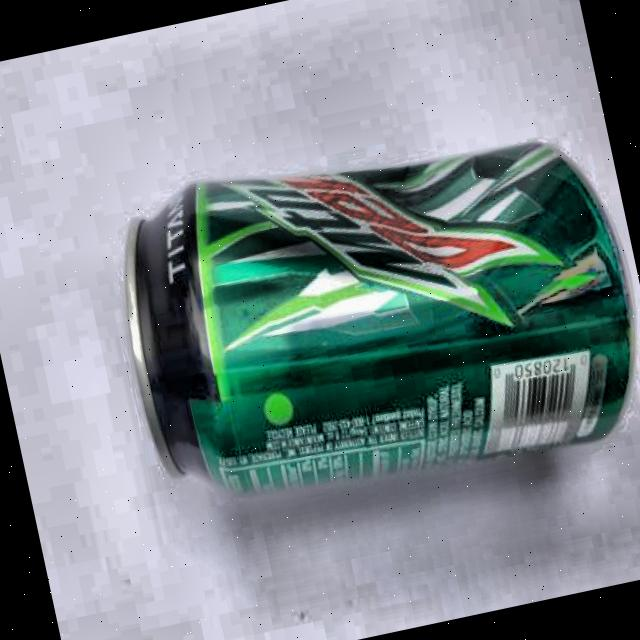metal: (99, 103, 640, 535)
